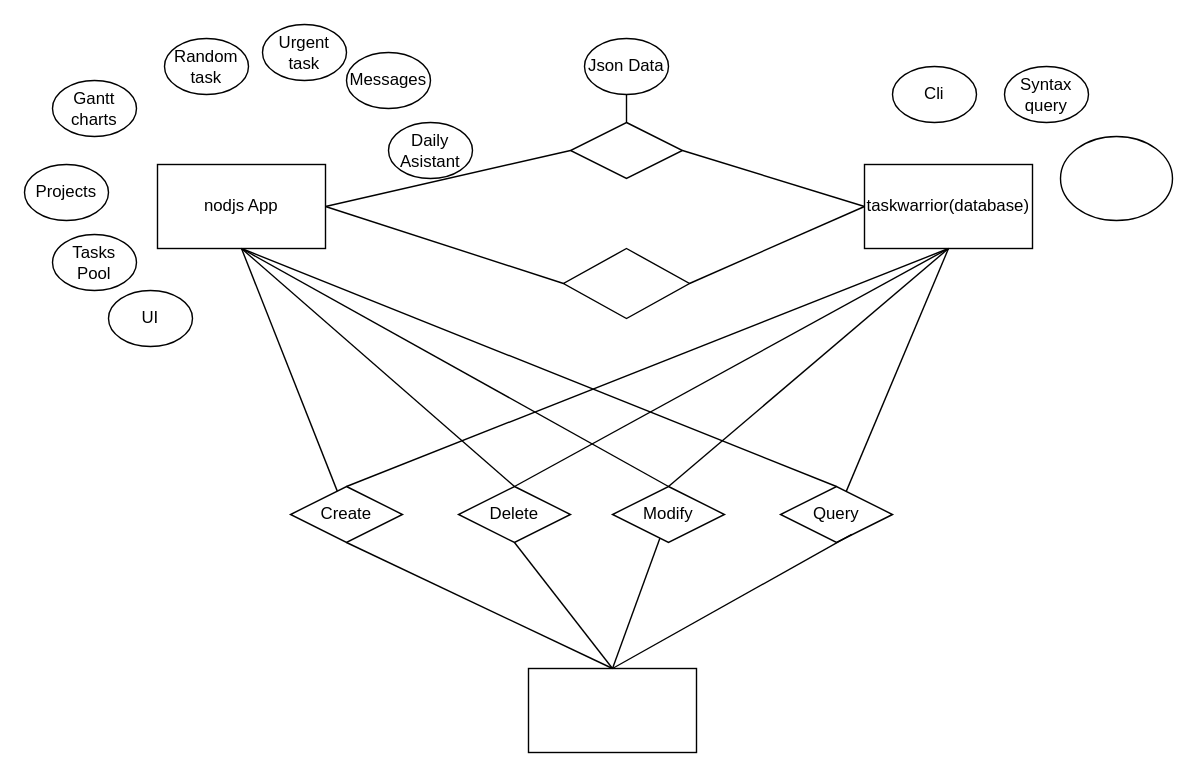
This 1197x777 diagram has some shape labels left out. Each missing label, with the box of its shape:
All Features included in UI: (1059, 135, 1172, 220)
Communicate: (562, 247, 690, 318)
Sync: (569, 121, 682, 178)
User: (527, 667, 696, 752)
